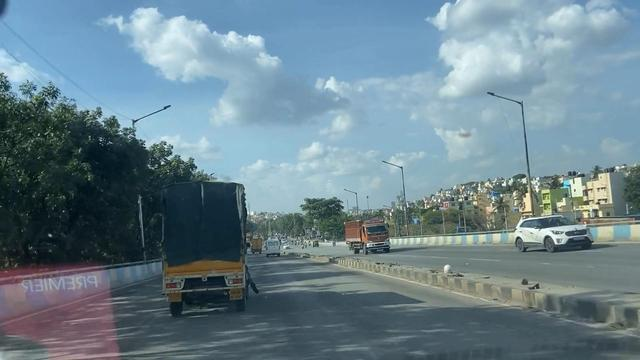HMV: (170, 179, 260, 315)
